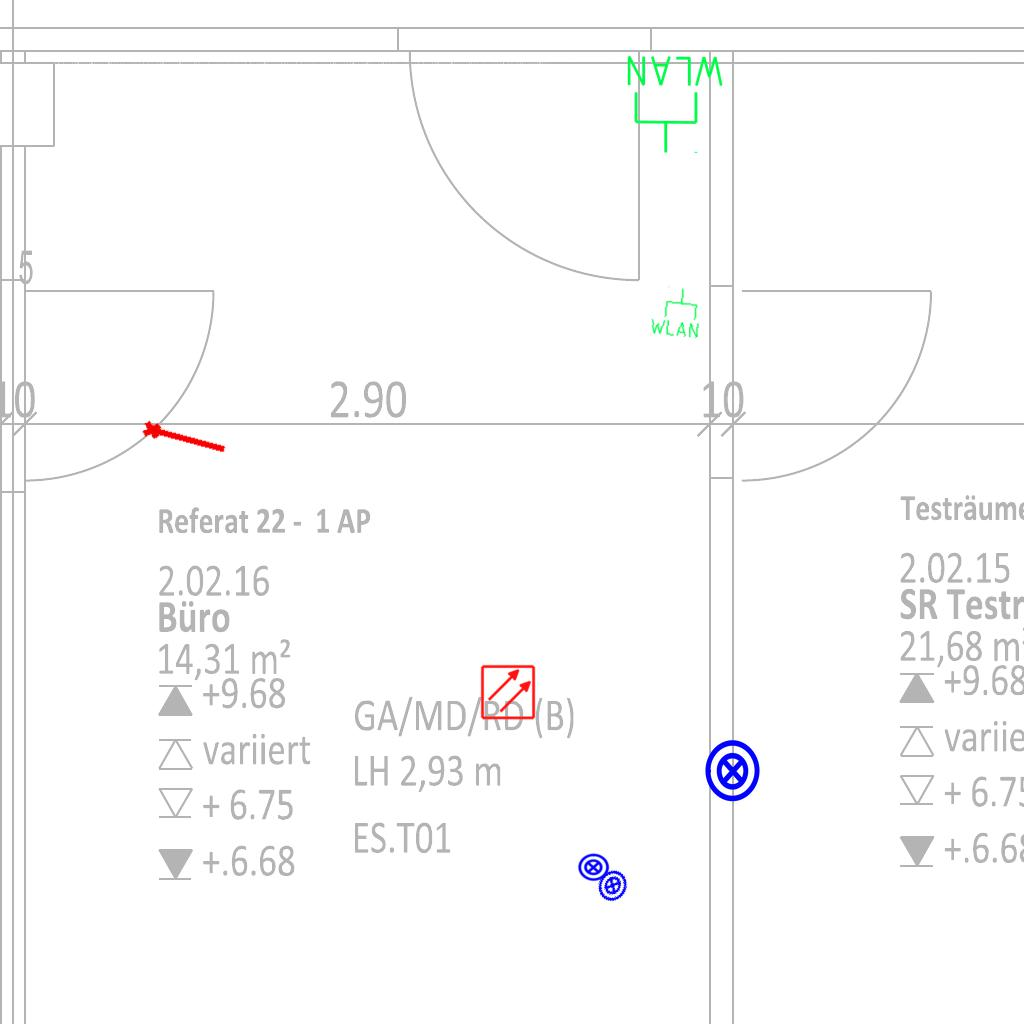ASR_Ansaugoeffnung: (139, 415, 231, 460)
RMO_Rauchmelder_optischer: (480, 664, 536, 720)
Taster_beleuchtet: (700, 738, 766, 804), (590, 863, 635, 908), (577, 851, 610, 884)
WLAN: (623, 52, 728, 156), (647, 283, 705, 341)
